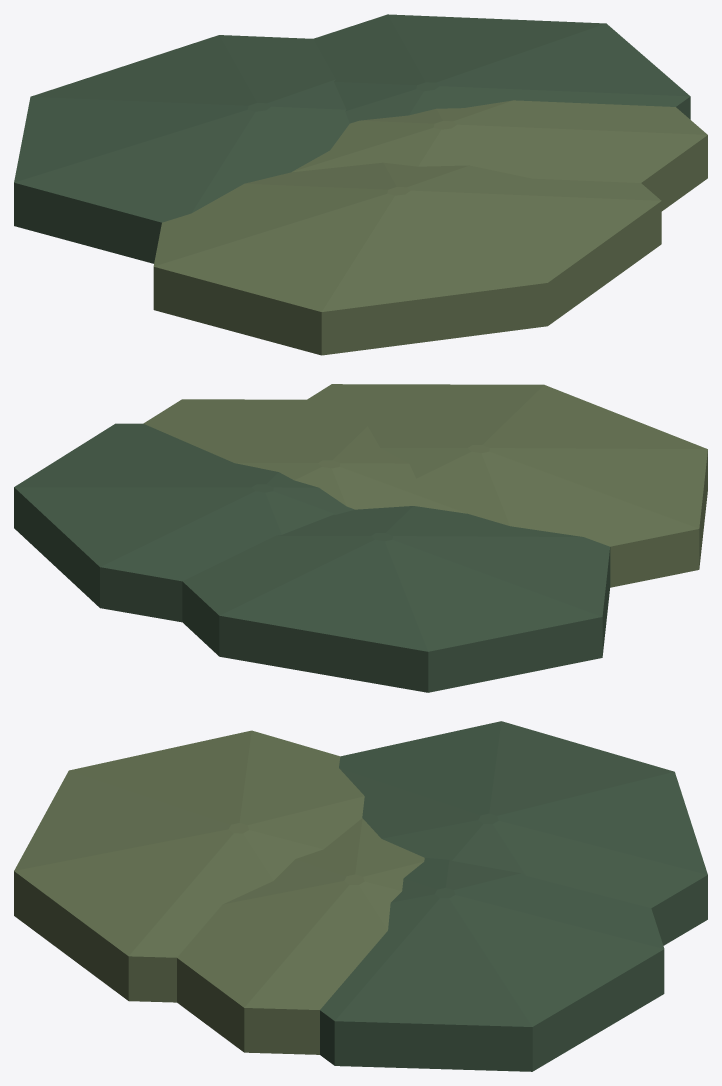
The model's file is NAT_Ground_07_Moss.glb.
The picture shows the model from 3 angles, top to bottom: view 1: azimuth 30°, elevation 25°; view 2: azimuth 150°, elevation 25°; view 3: azimuth 270°, elevation 25°; orthographic projection. The views are drawn at different scales.
Visible parts, largest first — view 1: NAT_Ground_07_Moss; view 2: NAT_Ground_07_Moss; view 3: NAT_Ground_07_Moss.
Boxes of the visible parts, <box> form: NAT_Ground_07_Moss: <box>14,14,707,355</box>; NAT_Ground_07_Moss: <box>14,384,707,692</box>; NAT_Ground_07_Moss: <box>14,721,707,1071</box>.
Bounding box in the file's own units: 0.8792 × 0.12 × 0.8427.
